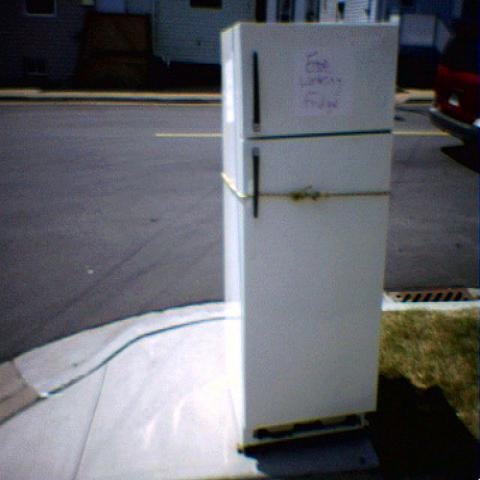car: (429, 13, 479, 151)
